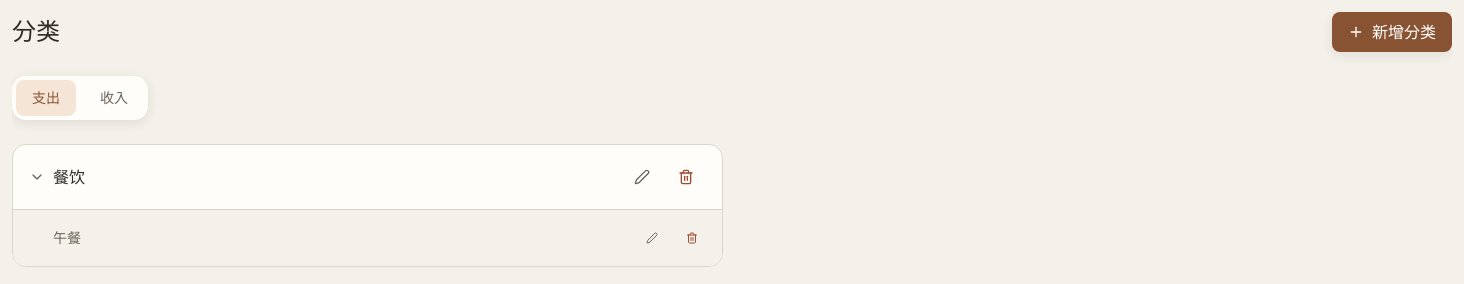
real redesign components with controlled API state › category expansion is keyboard-accessible and editing remains available
Click the button "餐饮".
click(69, 177)  # box [29,165,622,189]
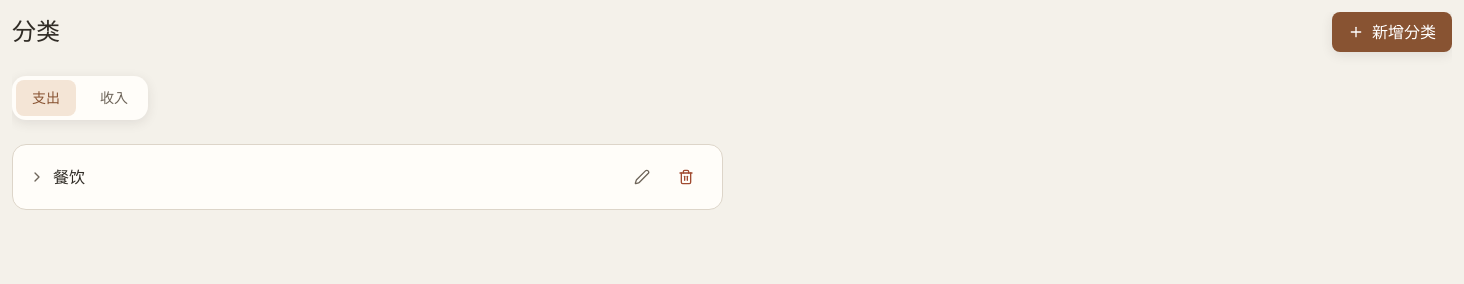
expect the button "餐饮" is collapsed: met
Click the button "餐饮".
click(69, 177)  # box [29,165,622,189]
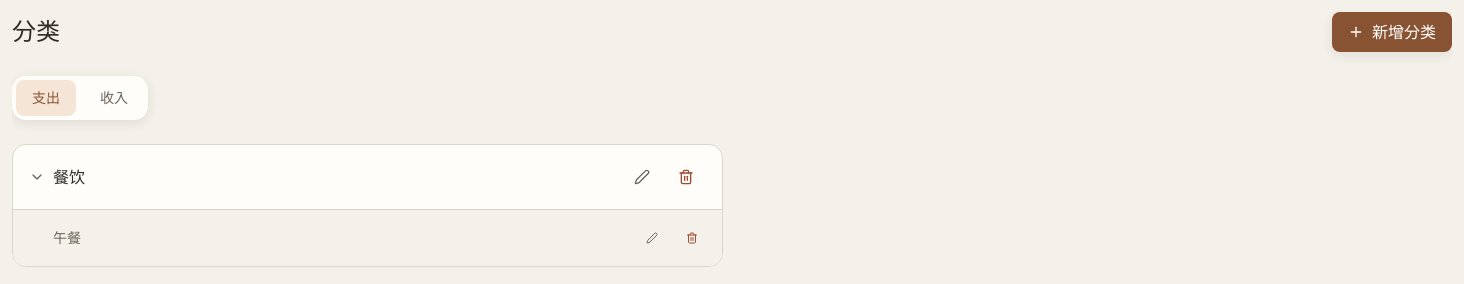
expect the button named "编辑 午餐" is shown: met, box [634,222,670,254]
